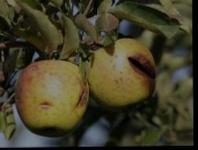rotten apple: (86, 35, 166, 129), (12, 59, 90, 138)
